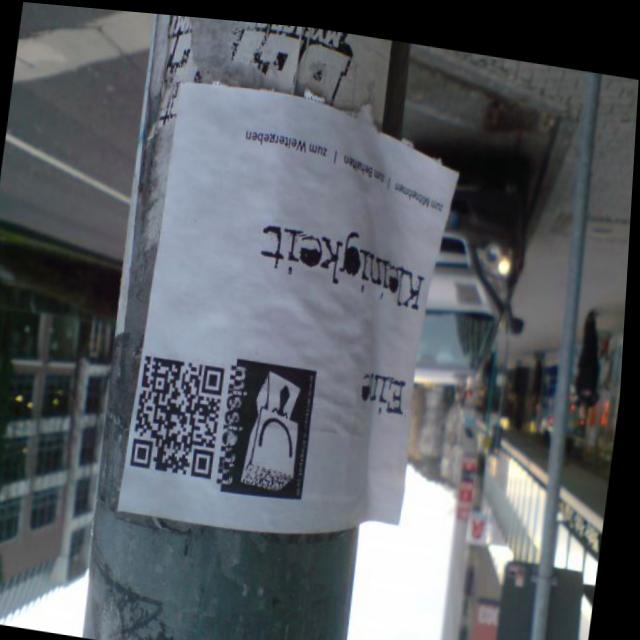qrcode: (135, 352, 229, 475)
